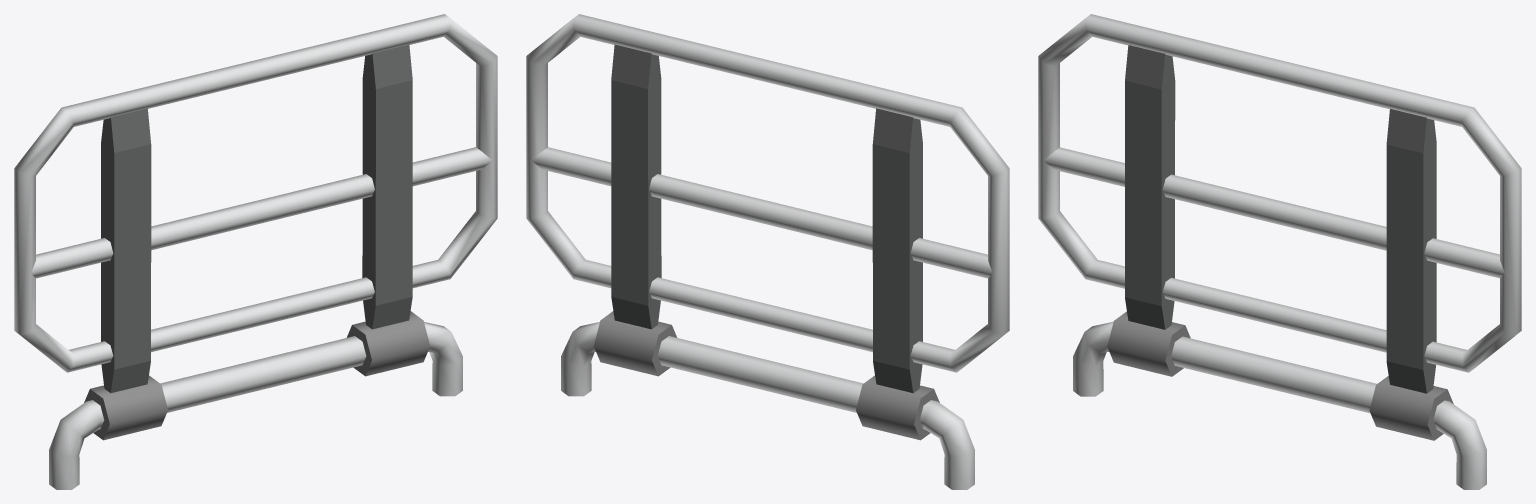
The model's file is Fence_type_A_001.fbx.
3 renders of one model, left to right at view 1: azimuth 30°, elevation 25°; view 2: azimuth 150°, elevation 25°; view 3: azimuth 330°, elevation 25°, orthographic.
Visible parts, largest first — view 1: Fence_type_A_001; view 2: Fence_type_A_001; view 3: Fence_type_A_001.
Part boxes in pixels (x1,y1,x2,y2): Fence_type_A_001: (14, 14, 497, 489); Fence_type_A_001: (526, 14, 1009, 489); Fence_type_A_001: (1038, 14, 1521, 489).
Size of the model in its own units: 190 by 18.39 by 142.
